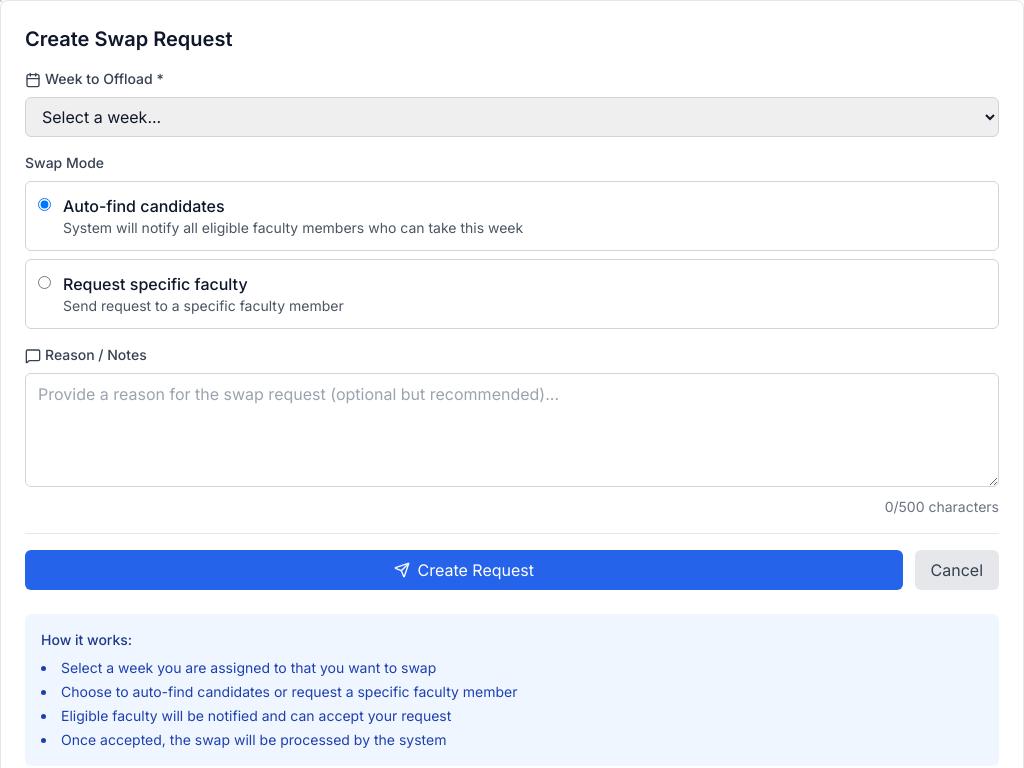
Scenario: SwapRequestForm - Enhanced Tests › Error Handling › should display API error message
Select "Jul 1, 2025" in the dropdown at coordinates (512, 117), box [25, 97, 999, 137]
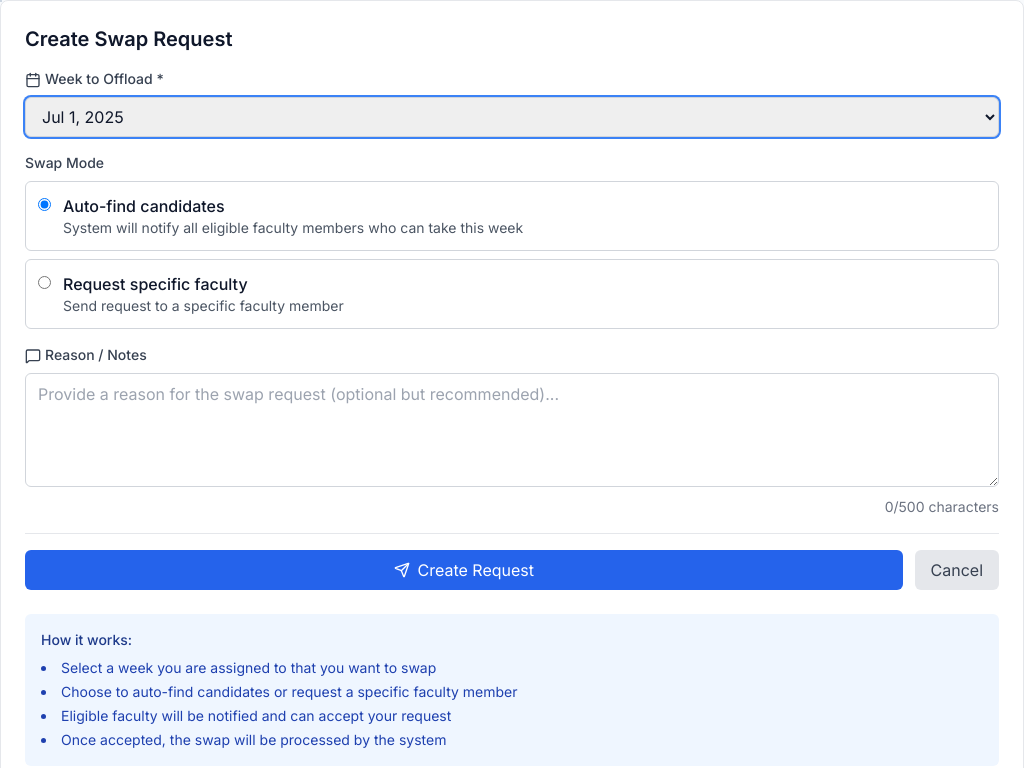
Click the button "Create Request" at coordinates (464, 570), box [25, 550, 902, 590]
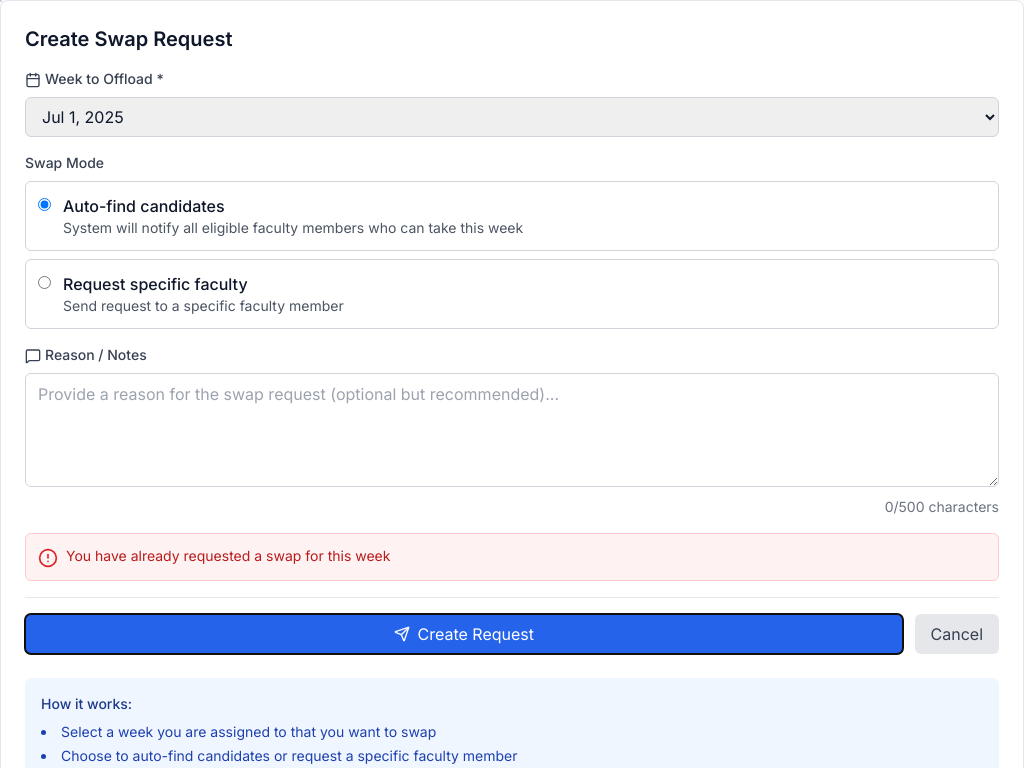
Result: the text "You have already requested a swap for this week" is shown at [66, 546, 390, 566]
